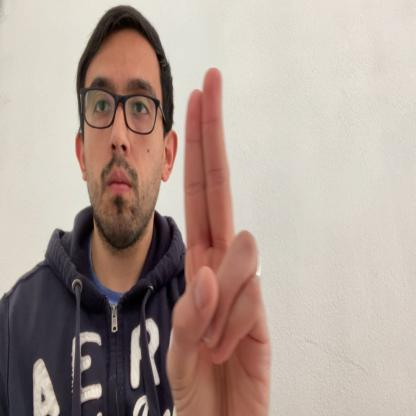U: (166, 66, 271, 415)
